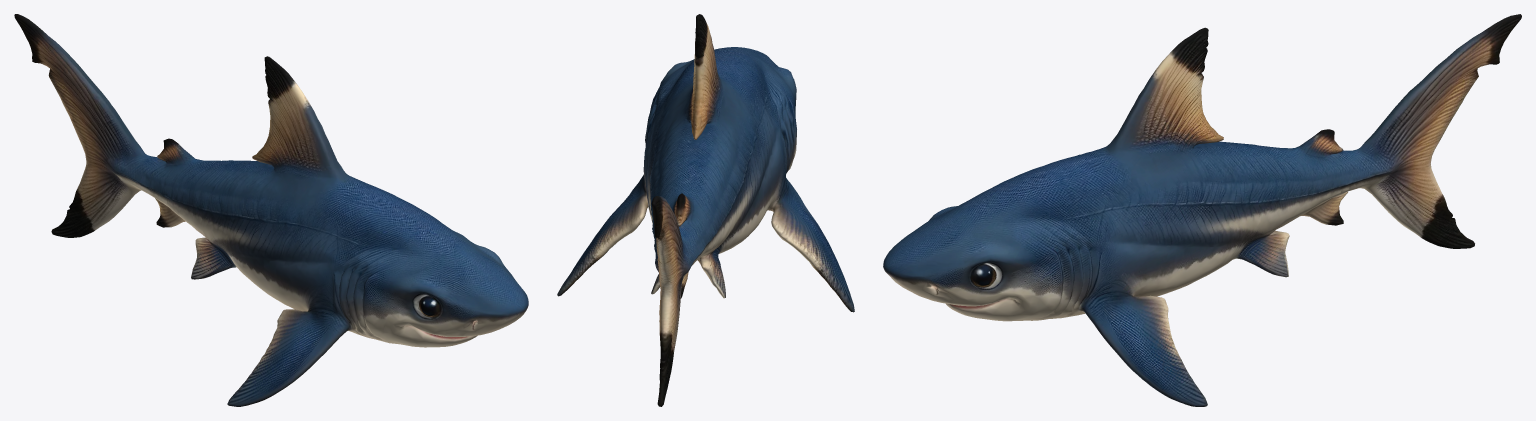
Rendered from hai.glb.
3 views of the same model, side by side, from view 1: azimuth 30°, elevation 25°; view 2: azimuth 150°, elevation 25°; view 3: azimuth 270°, elevation 25° (orthographic). The views are drawn at different scales.
Parts seen in each view (by area): view 1: tripo_node_6205928e-4816-46e8-afeb-58db061129ce; view 2: tripo_node_6205928e-4816-46e8-afeb-58db061129ce; view 3: tripo_node_6205928e-4816-46e8-afeb-58db061129ce.
Part boxes in pixels (left/top/right/bottom): tripo_node_6205928e-4816-46e8-afeb-58db061129ce: left=14, top=14, right=528, bottom=406; tripo_node_6205928e-4816-46e8-afeb-58db061129ce: left=557, top=14, right=854, bottom=406; tripo_node_6205928e-4816-46e8-afeb-58db061129ce: left=883, top=14, right=1521, bottom=406.
Bounding box in the file's own units: 1.03 × 1.2 × 2.23.
Materials: 1 (1 with a texture image).
